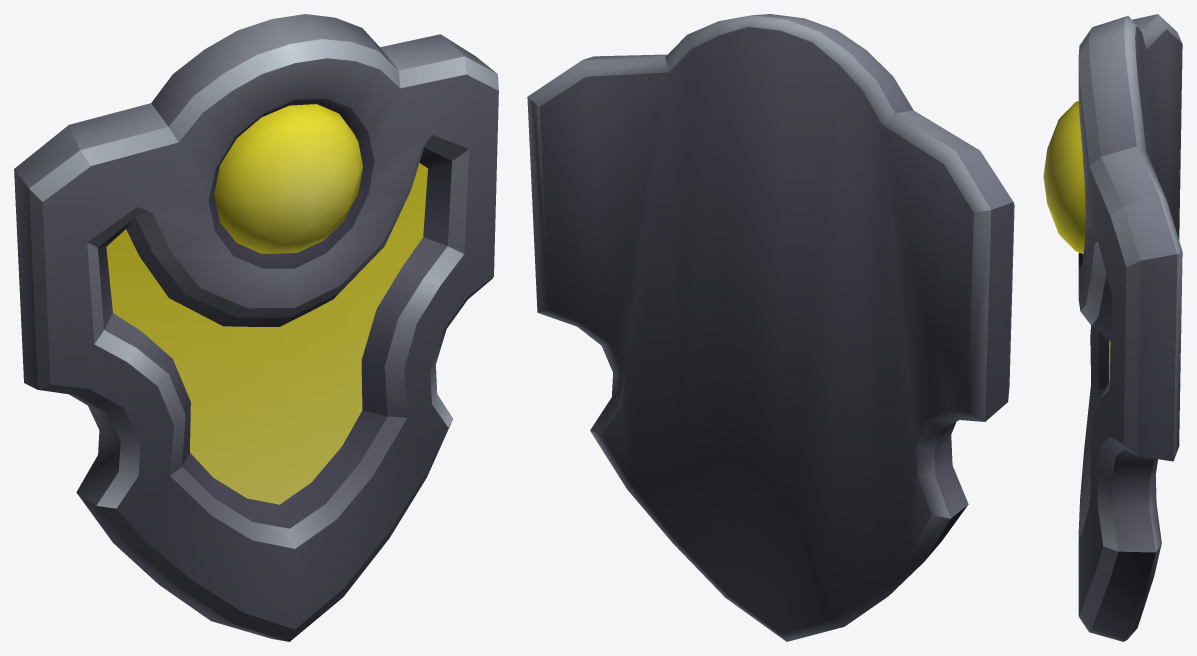
File: elf_shield.fbx
The picture shows the model from 3 angles, left to right: view 1: azimuth 30°, elevation 25°; view 2: azimuth 150°, elevation 25°; view 3: azimuth 270°, elevation 25°; orthographic projection.
Parts seen in each view (by area): view 1: elf_shield; view 2: elf_shield; view 3: elf_shield.
Boxes of the visible parts, <box> form: elf_shield: <box>14,14,498,641</box>; elf_shield: <box>527,14,1014,641</box>; elf_shield: <box>1043,14,1182,641</box>.
Bounding box in the file's own units: 188 × 237 × 49.01.
